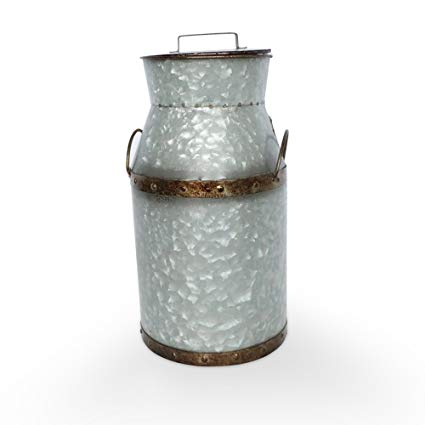metal: (125, 31, 289, 368)
